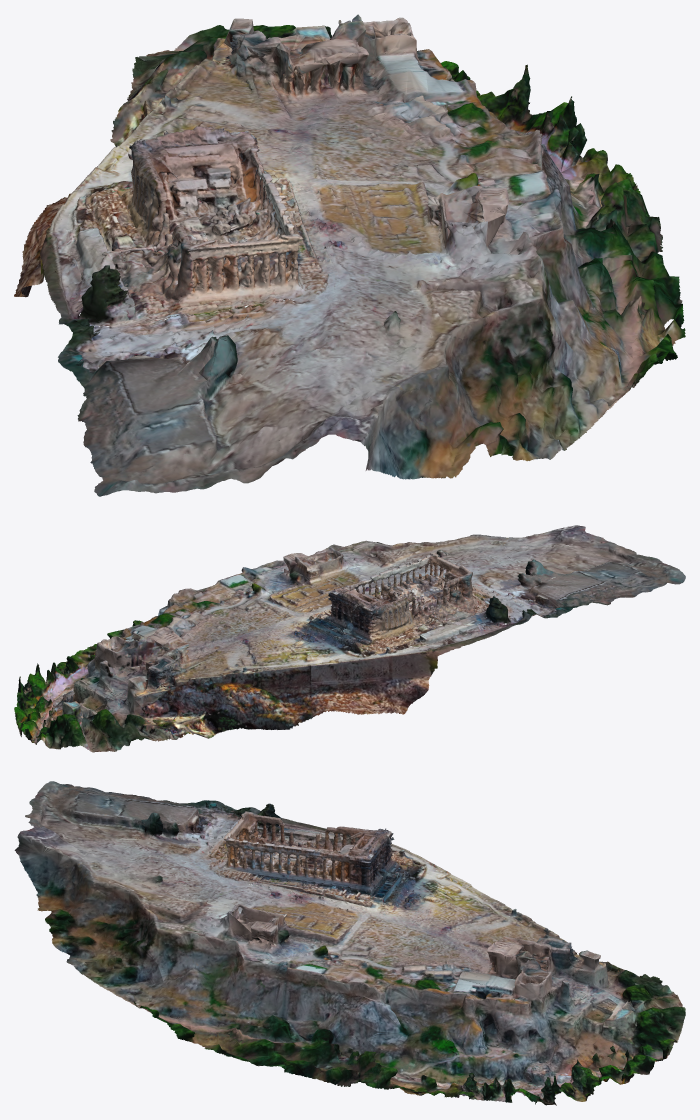
Rendered from unesco_parthenon_glb.glb.
The picture shows the model from 3 angles, top to bottom: view 1: azimuth 30°, elevation 25°; view 2: azimuth 150°, elevation 25°; view 3: azimuth 270°, elevation 25°; orthographic projection. The views are drawn at different scales.
Parts seen in each view (by area): view 1: ACROPOLIS, PARTHENON; view 2: ACROPOLIS, PARTHENON; view 3: ACROPOLIS, PARTHENON.
Boxes of the visible parts, x1,y1,x2,y2 form: ACROPOLIS: (14,14,685,496); PARTHENON: (66,126,340,327); ACROPOLIS: (14,525,685,752); PARTHENON: (301,552,511,656); ACROPOLIS: (14,781,685,1105); PARTHENON: (209,803,422,907).
Bounding box in the file's own units: 37.59 × 9.16 × 43.11.
2 materials, 2 textured.
